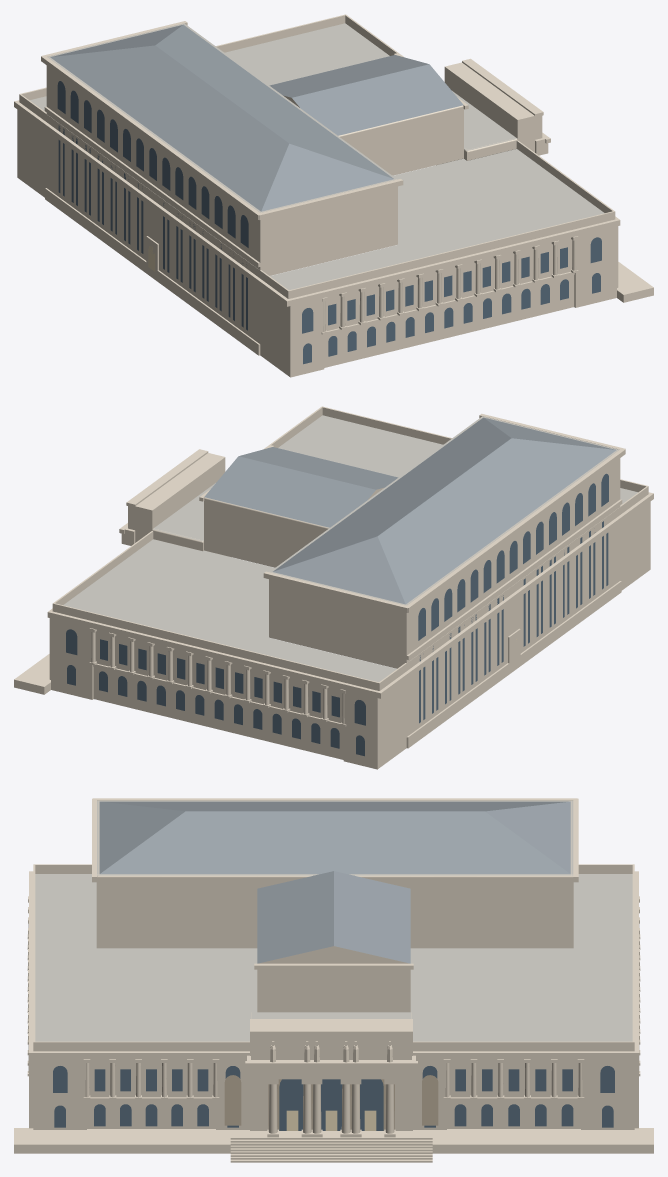
File: nyc-nypl.glb
3 renders of one model, top to bottom at view 1: azimuth 30°, elevation 25°; view 2: azimuth 150°, elevation 25°; view 3: azimuth 270°, elevation 25°, orthographic. The views are drawn at different scales.
Parts seen in each view (by area): view 1: New York Public Library, Stephen A. Schwarzman Building; view 2: New York Public Library, Stephen A. Schwarzman Building; view 3: New York Public Library, Stephen A. Schwarzman Building.
Part boxes in pixels (left/top/right/bottom): New York Public Library, Stephen A. Schwarzman Building: left=14, top=14, right=653, bottom=377; New York Public Library, Stephen A. Schwarzman Building: left=14, top=406, right=653, bottom=769; New York Public Library, Stephen A. Schwarzman Building: left=14, top=798, right=653, bottom=1162.
Size of the model in its own units: 99.95 by 42 by 132.
